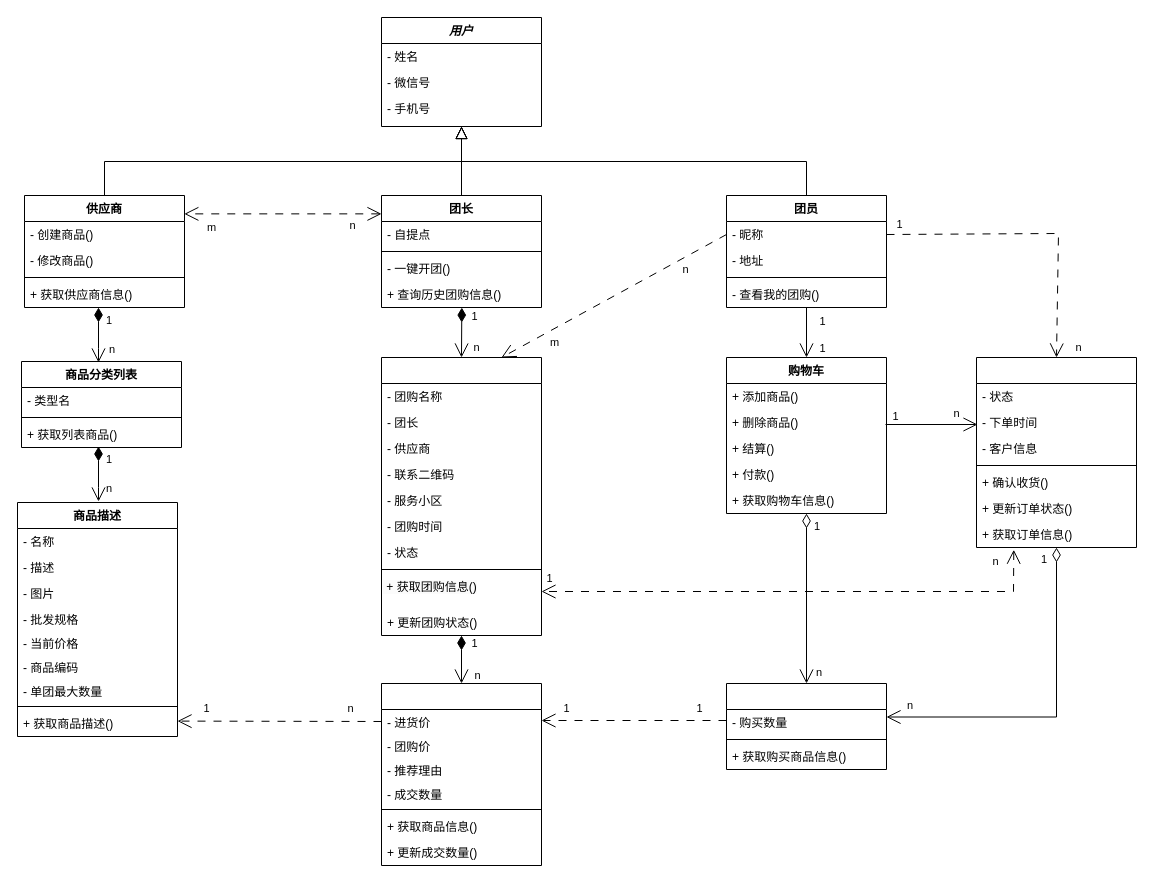
Image size: 1154x886. Some labels were removed from this diagram. Each missing label, with the box of its shape:
团购: (380, 356, 542, 636)
订单: (976, 356, 1136, 548)
购买商品条目: (726, 682, 886, 770)
销售商品条目: (380, 682, 542, 866)
